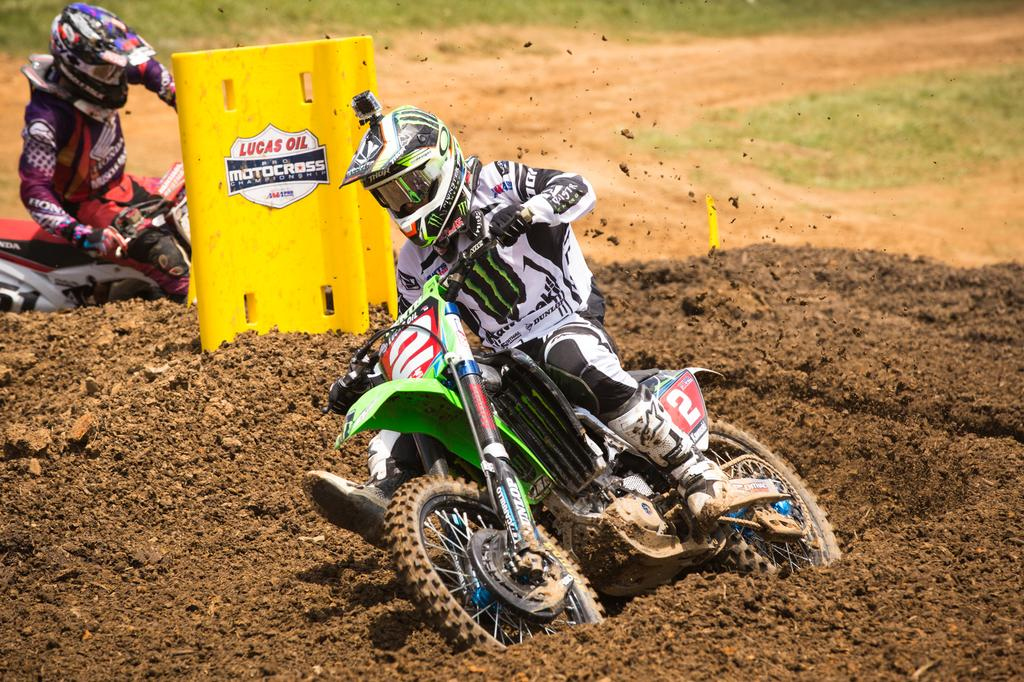helmet: (356, 105, 467, 249), (49, 2, 157, 110)
